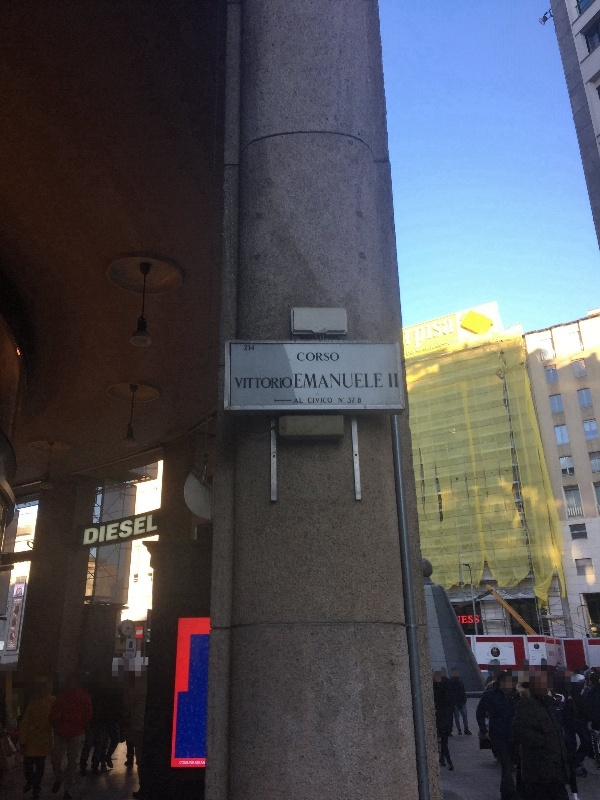text: (417, 317, 432, 355), (433, 317, 448, 355), (97, 513, 112, 547), (113, 513, 128, 547), (129, 513, 144, 547), (404, 317, 416, 355), (145, 513, 158, 547), (84, 513, 96, 547), (305, 372, 320, 390), (321, 372, 336, 390), (337, 372, 352, 390), (353, 372, 368, 390), (369, 372, 384, 390), (449, 317, 455, 355), (305, 349, 320, 364), (321, 349, 336, 364), (257, 376, 272, 391), (273, 376, 288, 391), (433, 338, 448, 352), (241, 376, 254, 391), (388, 373, 400, 389), (294, 372, 304, 390), (449, 338, 457, 352), (297, 349, 304, 364), (406, 347, 416, 357), (465, 615, 474, 626), (338, 397, 352, 404), (308, 397, 320, 405), (321, 397, 333, 405), (244, 344, 256, 351), (294, 397, 304, 405), (195, 760, 208, 766), (457, 615, 464, 626), (235, 376, 240, 391), (358, 397, 368, 404), (595, 748, 600, 762), (179, 761, 192, 766), (289, 376, 293, 391), (417, 347, 423, 357), (424, 346, 432, 352), (337, 349, 340, 364), (117, 649, 128, 653), (429, 338, 432, 352), (476, 615, 480, 625), (120, 649, 128, 654), (129, 648, 135, 654), (254, 376, 256, 391), (348, 397, 352, 404), (593, 746, 600, 750), (17, 599, 22, 604), (492, 647, 496, 652), (353, 397, 355, 404), (591, 732, 592, 745), (593, 732, 594, 745), (14, 599, 16, 604), (193, 761, 195, 766), (126, 649, 128, 653), (127, 648, 128, 654), (497, 647, 498, 652)
